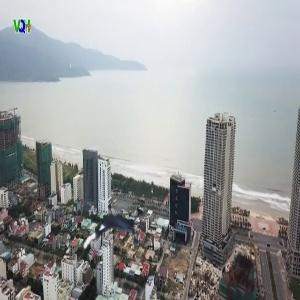drone: (83, 200, 148, 265)
